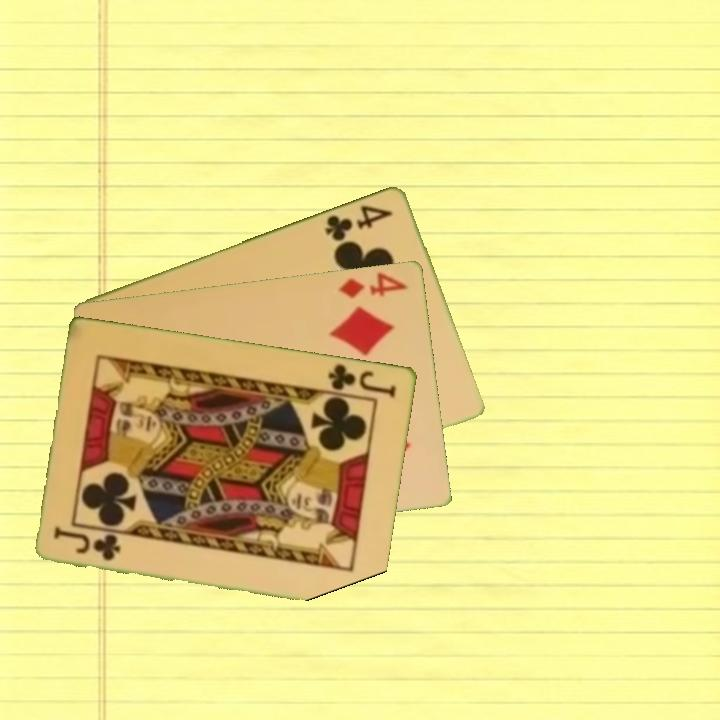4c: (321, 200, 396, 244)
4d: (335, 268, 411, 300)
Jc: (324, 360, 400, 400), (51, 524, 124, 563)
